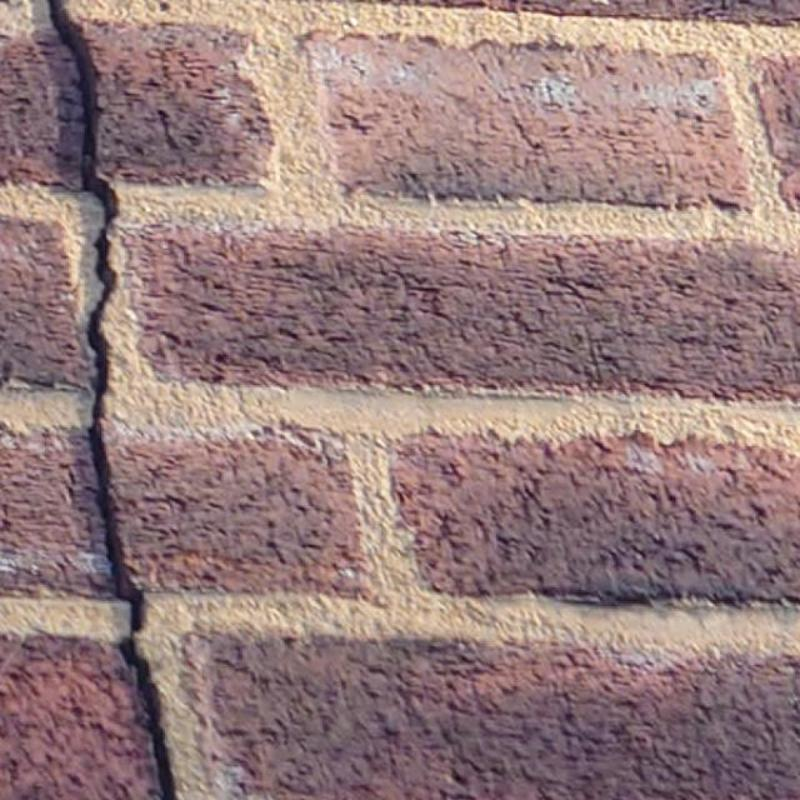pothole: (49, 0, 175, 799)
